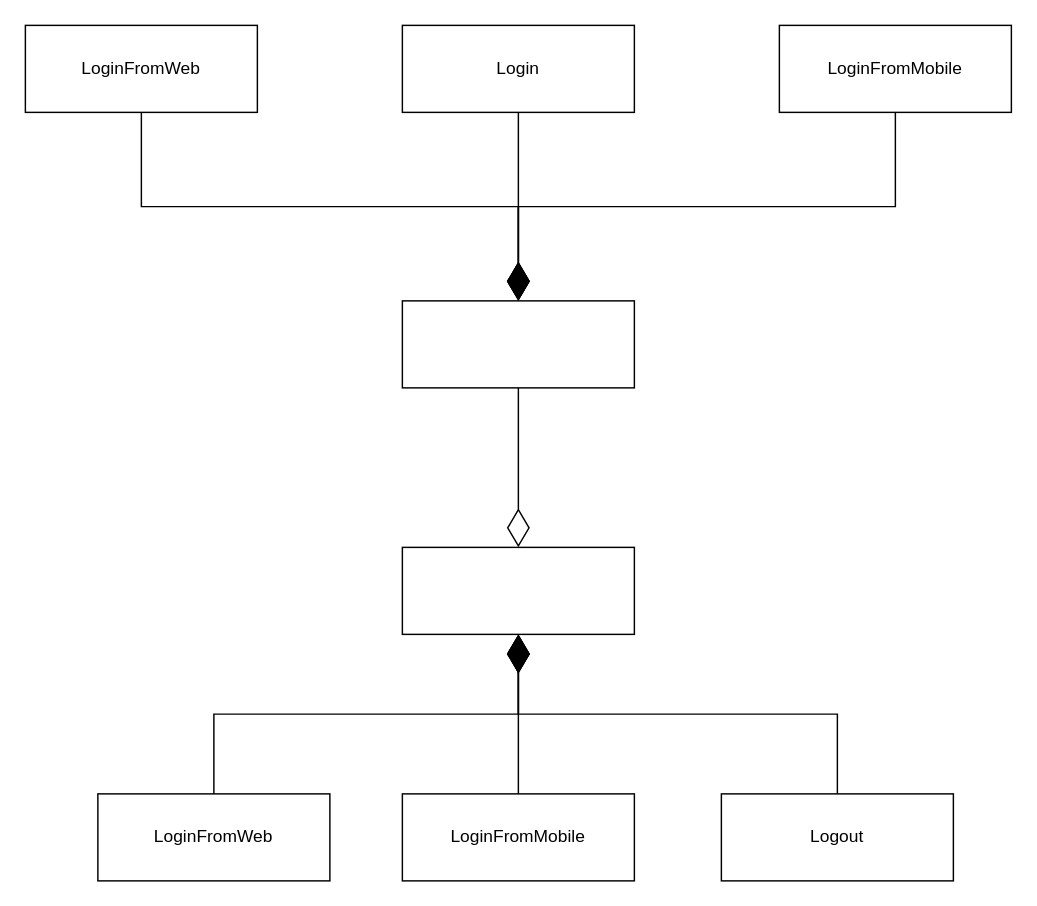
Some shapes in this 1037 by 906 pixel diagram are drawn without their labels. The centre of each missing label's shape, as x and y in pixels:
AuthController: the point at 517,590
AuthService: the point at 517,343
